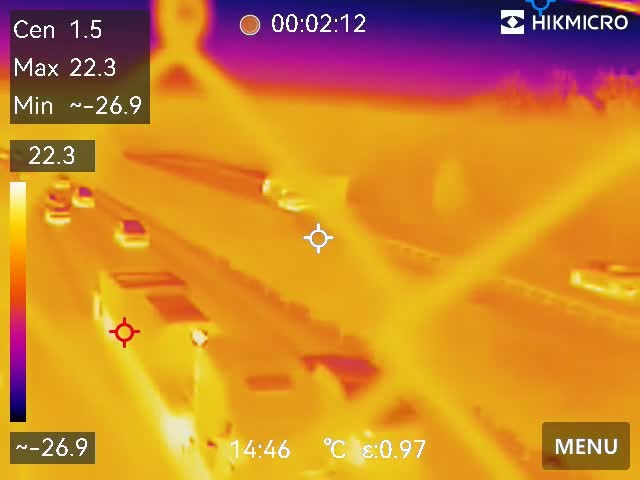heavyTruck: (87, 262, 344, 480), (255, 166, 354, 207)
vehicle: (565, 257, 640, 297), (108, 209, 157, 248), (72, 186, 99, 208)
